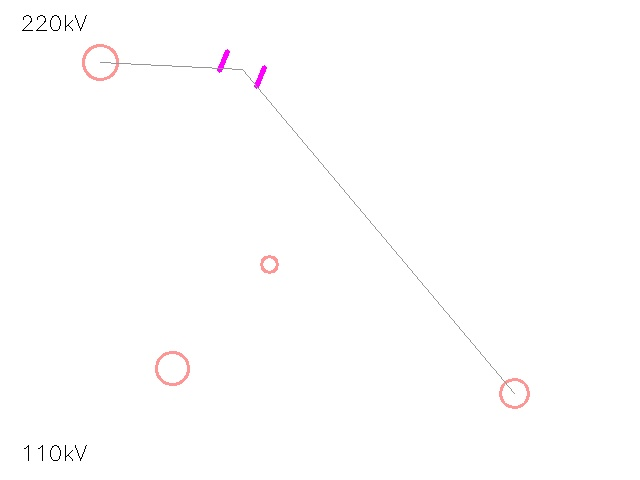capacitor: (208, 35, 276, 103)
disconnect_switch: (66, 28, 134, 96), (253, 248, 285, 280)
feeder_terminal: (485, 364, 543, 422)
load_break_switch: (139, 335, 205, 401)
